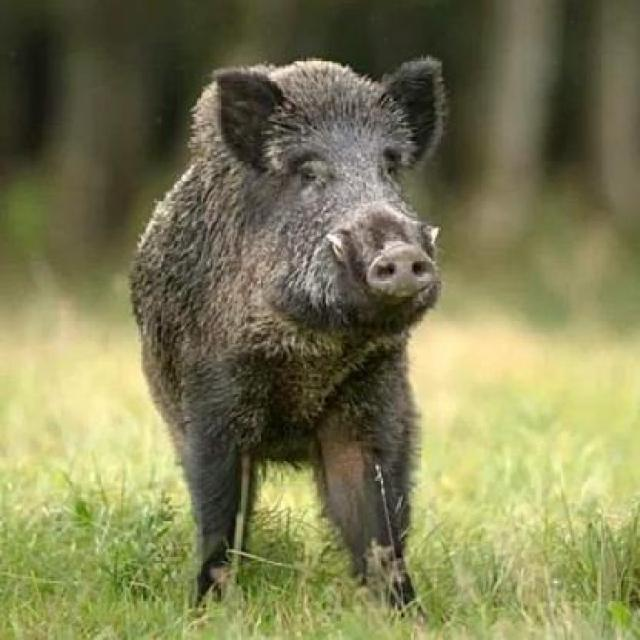wildboar: (126, 48, 452, 610)
